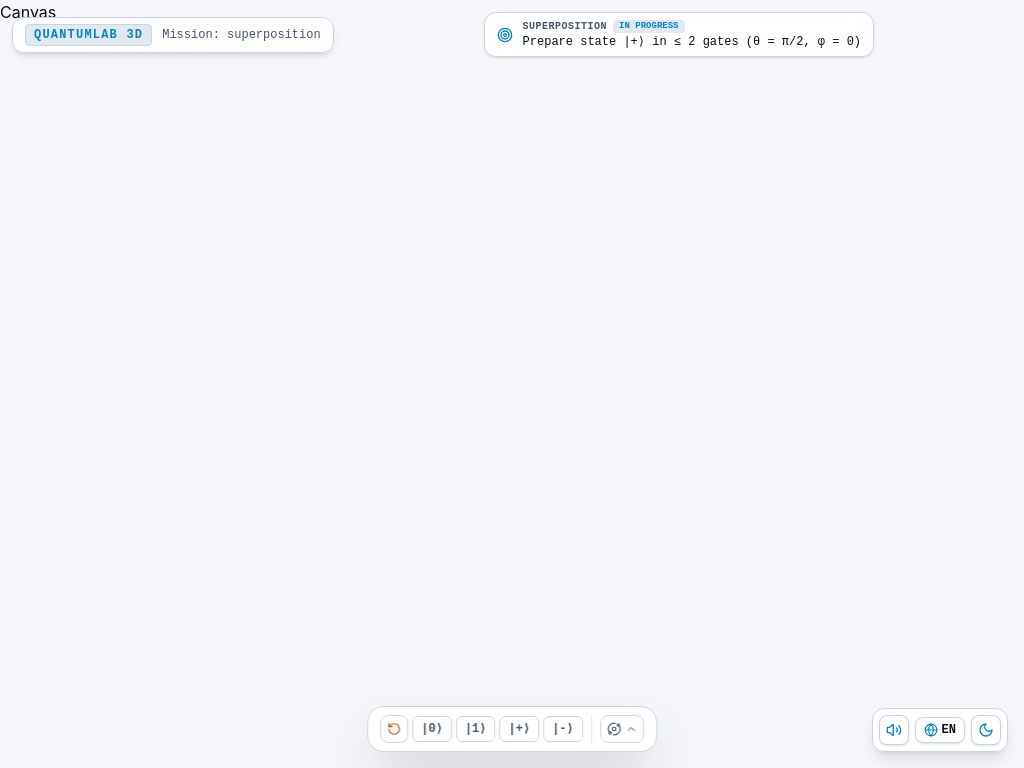
it: MissionCanvasShell › renders and toggles language via the Tier 1 language toggle button
// Toggle to Spanish
Click the button with test id "language-toggle-button" at (940, 730), box [915,717,965,743]
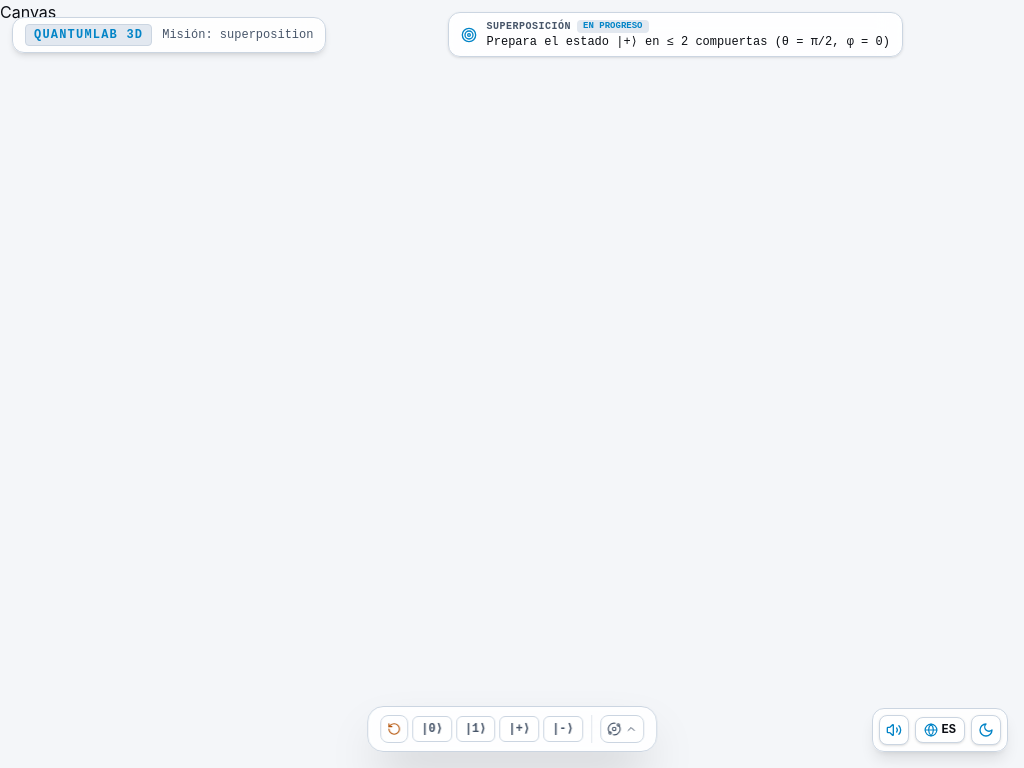
Expected: the button with test id "language-toggle-button" reads "ES"
// Toggle back to English
Click the button with test id "language-toggle-button" at (940, 730), box [915,717,965,743]
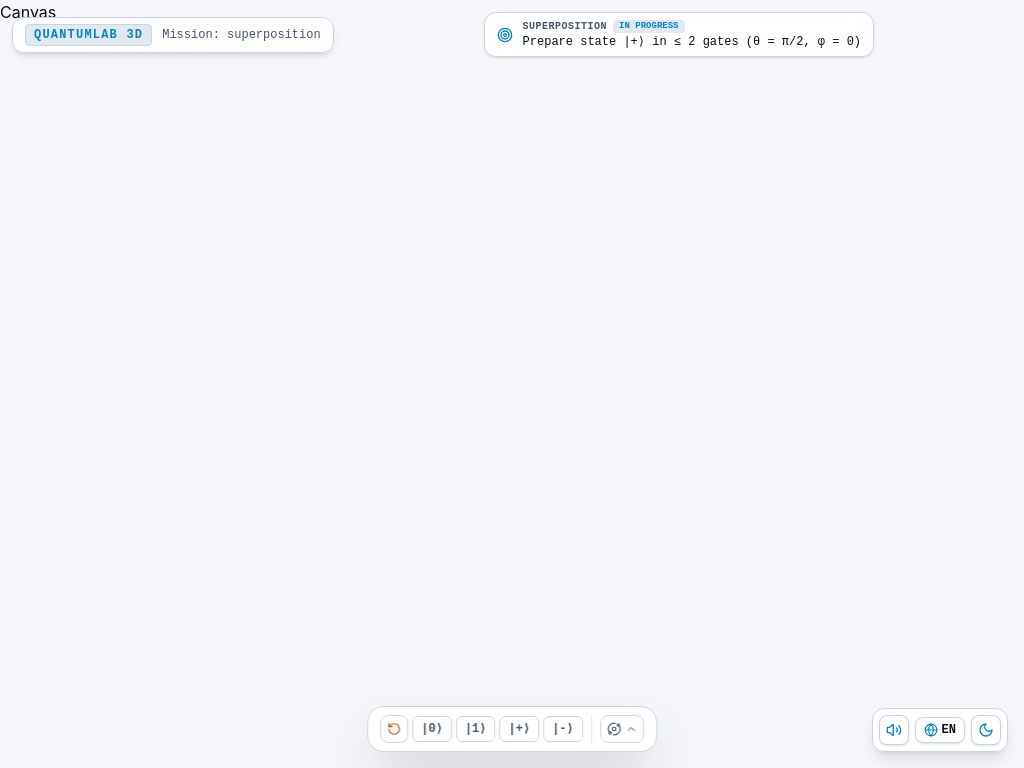
Expected: the button with test id "language-toggle-button" reads "EN", [915,717,965,743]
